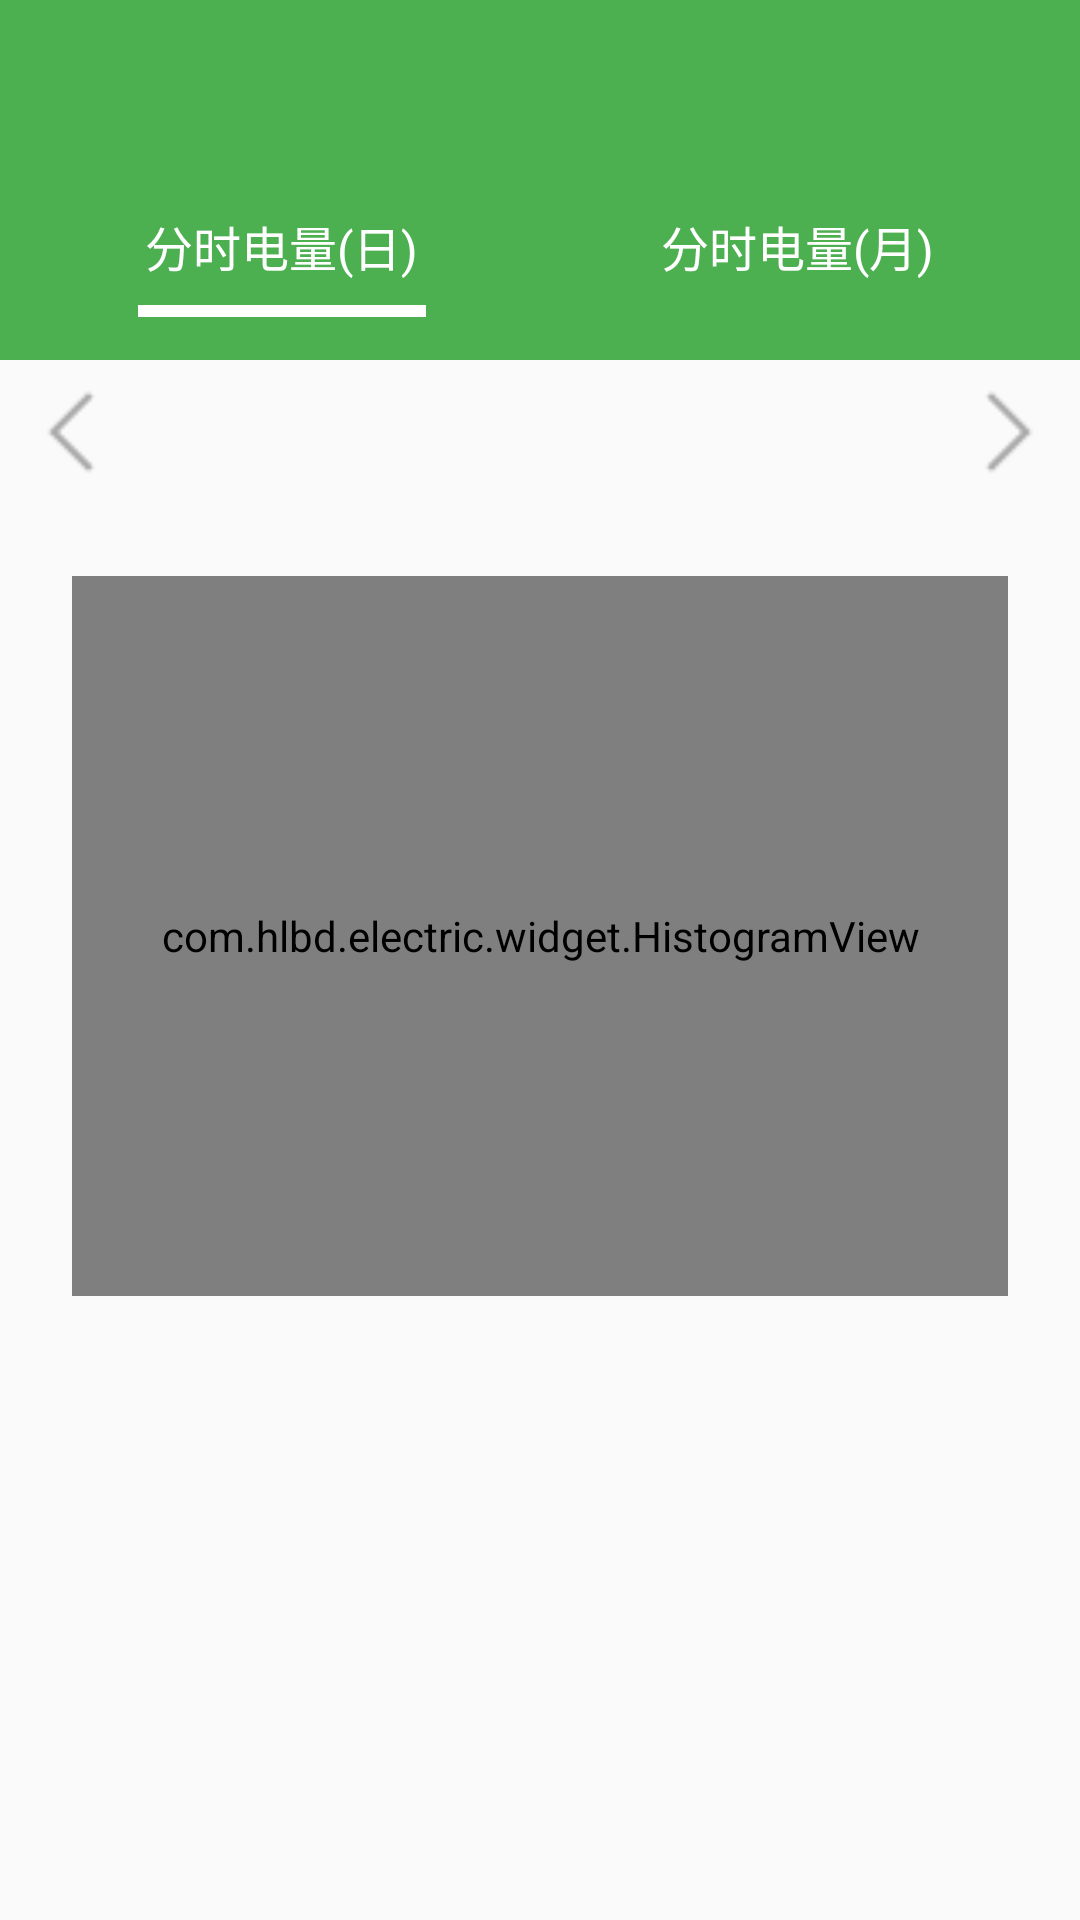

Icons on this 1080px x 1920px Android screen, each with its box as (x1, y1, x2, y2):
left: (50, 393, 93, 471)
right: (987, 393, 1030, 471)
